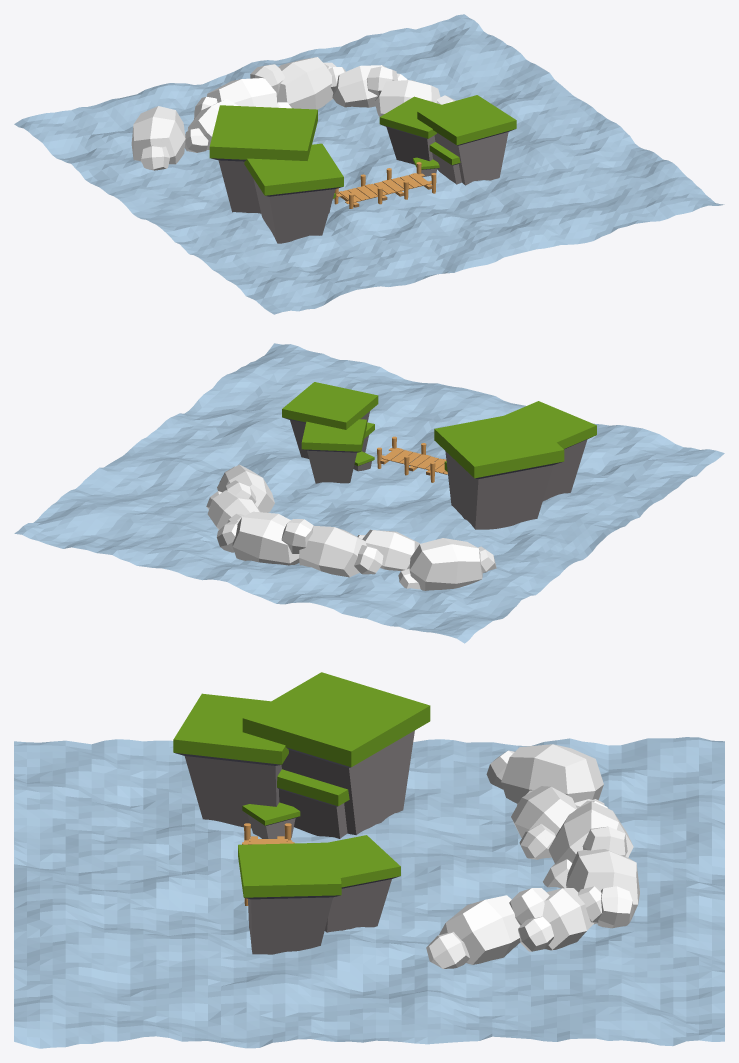
File: Terrain.fbx
The picture shows the model from 3 angles, top to bottom: view 1: azimuth 30°, elevation 25°; view 2: azimuth 150°, elevation 25°; view 3: azimuth 270°, elevation 25°; orthographic projection. The views are drawn at different scales.
Parts seen in each view (by area): view 1: Plane, Cube.000, Cube.004, Cube.002, Cube.020; view 2: Plane, Cube.004, Cube.000, Cube.002, Cube.020; view 3: Plane, Cube.000, Cube.004, Cube.002.
Part boxes in pixels (x1,y1,x2,y2): Plane: (14, 14, 724, 314); Cube.000: (209, 105, 343, 243); Cube.004: (131, 57, 455, 170); Cube.002: (379, 95, 516, 185); Cube.020: (334, 162, 436, 208); Plane: (14, 343, 724, 643); Cube.004: (206, 464, 496, 590); Cube.000: (434, 401, 596, 529); Cube.002: (282, 382, 378, 483); Cube.020: (377, 436, 447, 482); Plane: (14, 737, 724, 1048); Cube.000: (173, 672, 430, 838); Cube.004: (426, 744, 639, 968); Cube.002: (238, 835, 400, 954).
Size of the model in its own units: 32.78 by 6.58 by 32.78.
